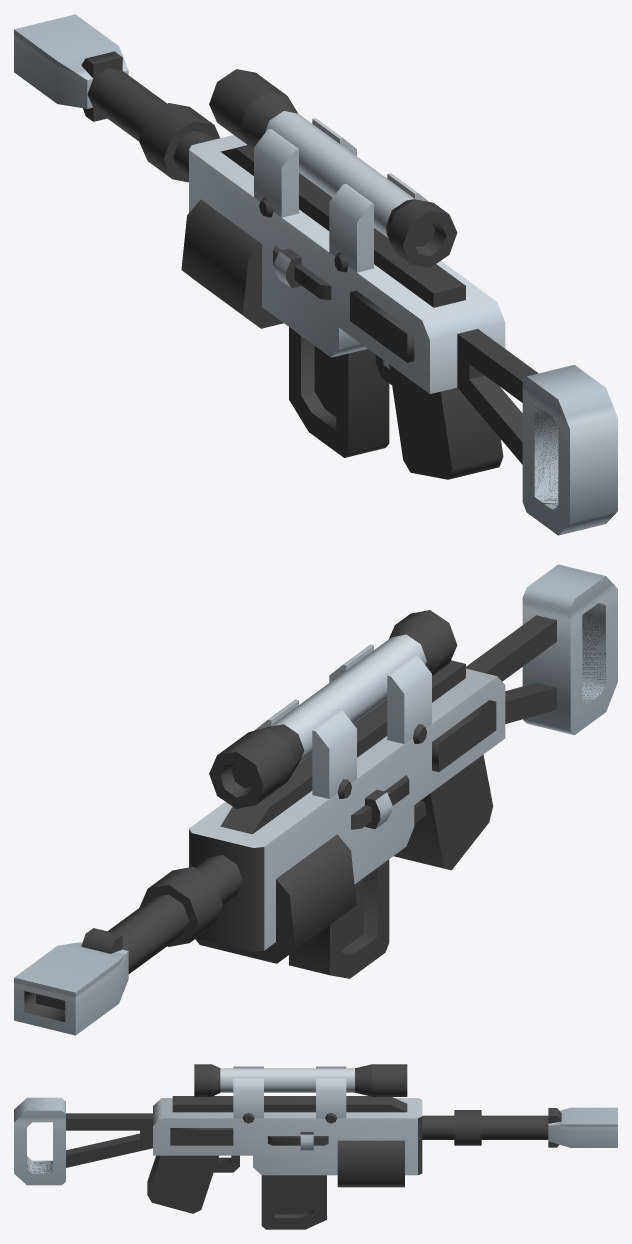
Rendered from blaster-e.glb.
3 renders of one model, top to bottom at view 1: azimuth 30°, elevation 25°; view 2: azimuth 150°, elevation 25°; view 3: azimuth 270°, elevation 25°, orthographic. The views are drawn at different scales.
Visible parts, largest first — view 1: blaster-e, scope, magazine; view 2: blaster-e, scope, magazine; view 3: blaster-e, scope, magazine.
Part boxes in pixels (x1,y1,x2,y2): blaster-e: [14, 14, 617, 535]; scope: [209, 69, 457, 272]; magazine: [289, 327, 389, 457]; blaster-e: [14, 564, 617, 1035]; scope: [209, 610, 457, 808]; magazine: [289, 859, 389, 978]; blaster-e: [14, 1096, 617, 1213]; scope: [194, 1064, 407, 1123]; magazine: [261, 1175, 326, 1229].
Bounding box in the file's own units: 0.1665 × 0.405 × 1.39.
1 material, 1 textured.
